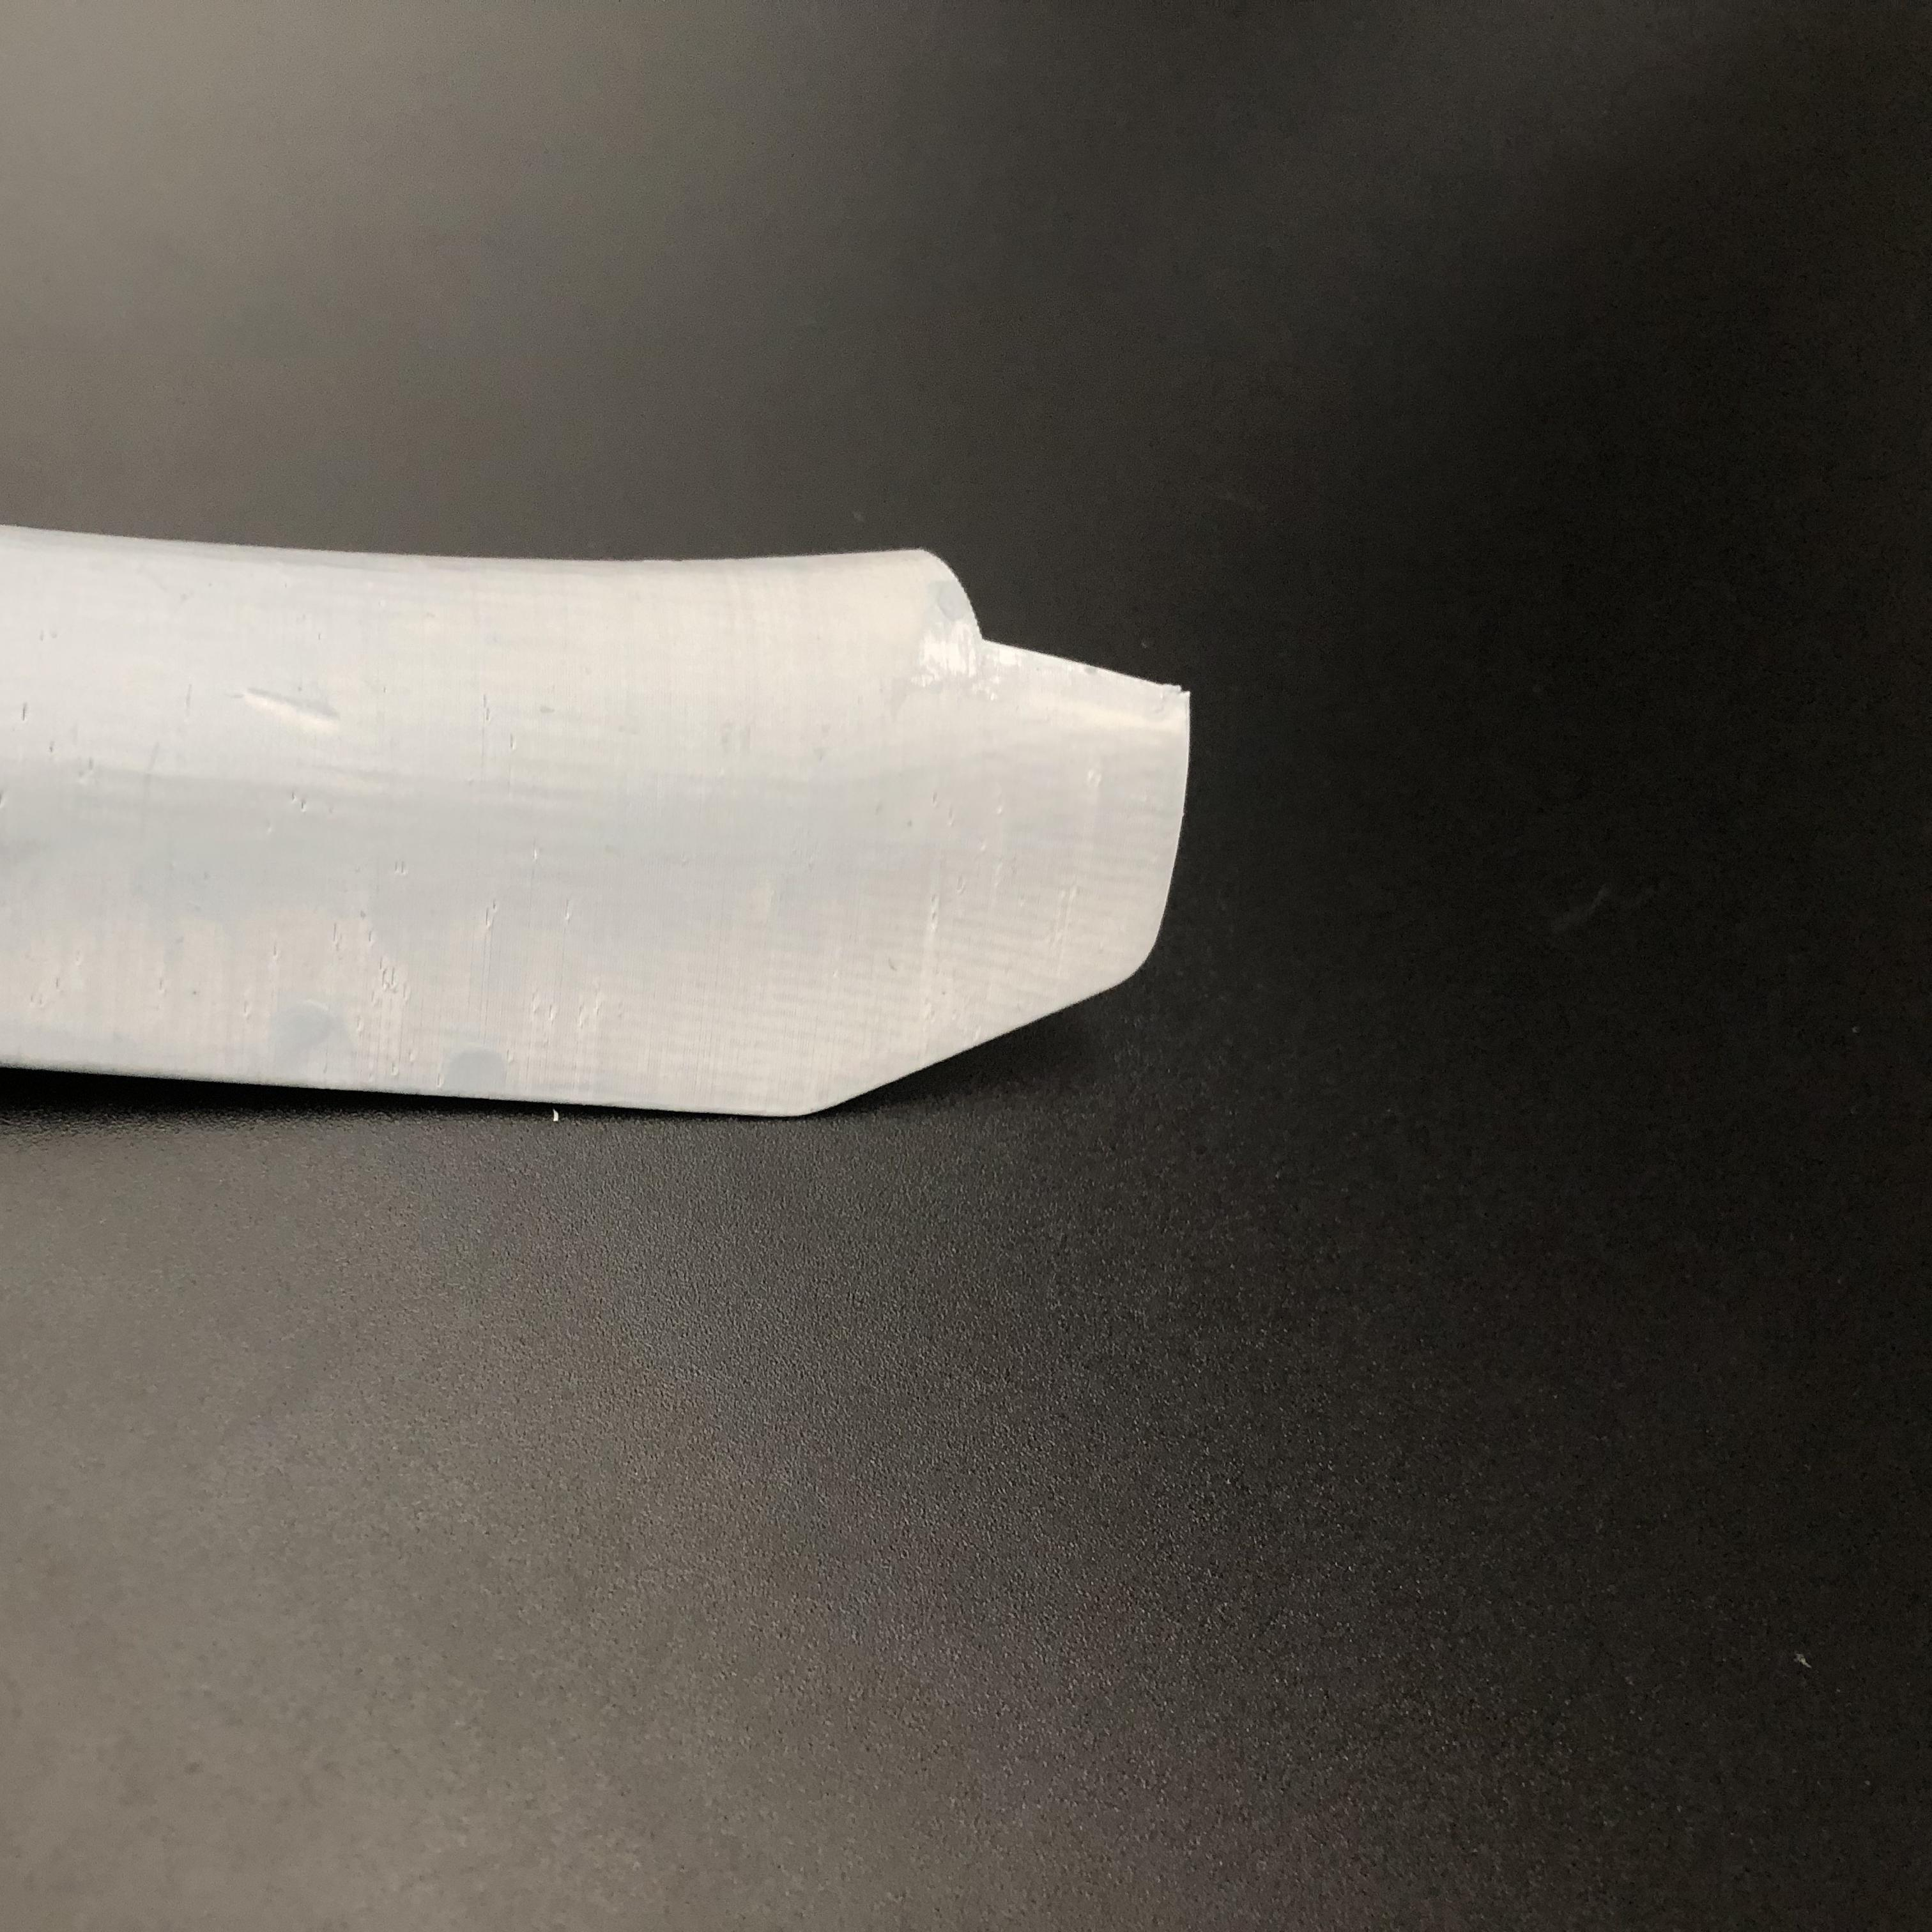fracture: (916, 531, 1177, 692)
